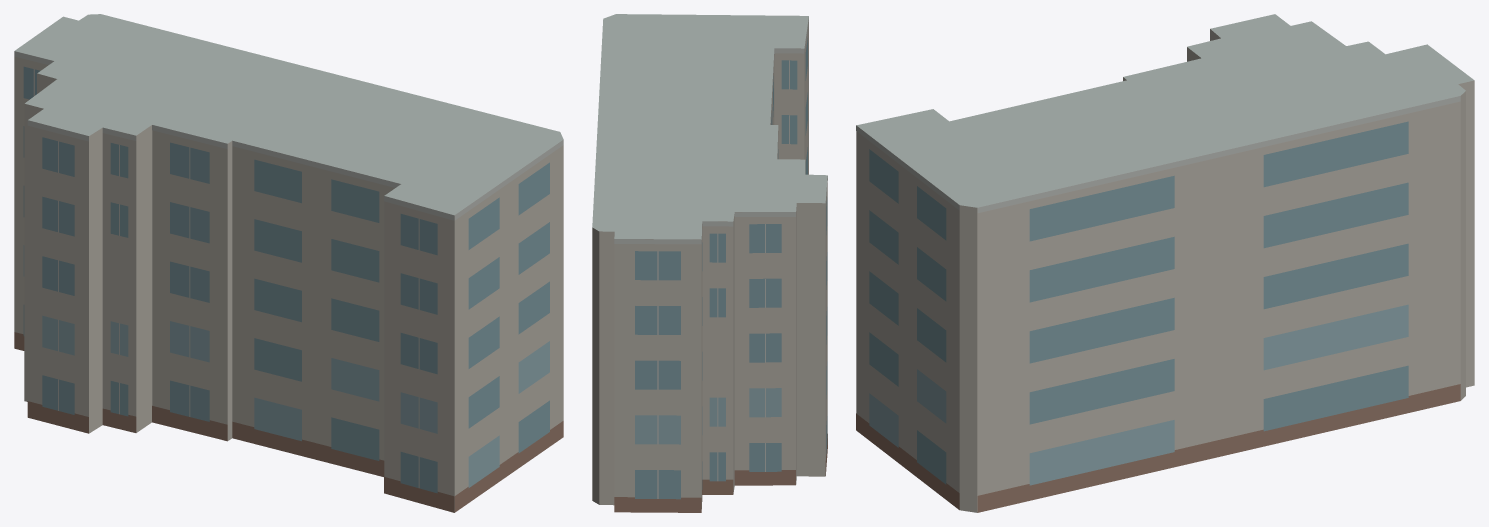
The model's file is survey-upis-32627207.glb.
The picture shows the model from 3 angles, left to right: view 1: azimuth 30°, elevation 25°; view 2: azimuth 150°, elevation 25°; view 3: azimuth 270°, elevation 25°; orthographic projection. The views are drawn at different scales.
Parts seen in each view (by area): view 1: survey-upis-32627207.tmp; view 2: survey-upis-32627207.tmp; view 3: survey-upis-32627207.tmp.
Boxes of the visible parts, x1,y1,x2,y2 form: survey-upis-32627207.tmp: (14,14,563,512); survey-upis-32627207.tmp: (592,14,827,512); survey-upis-32627207.tmp: (856,14,1474,512).
Bounding box in the file's own units: 18.13 × 13.3 × 24.44.
